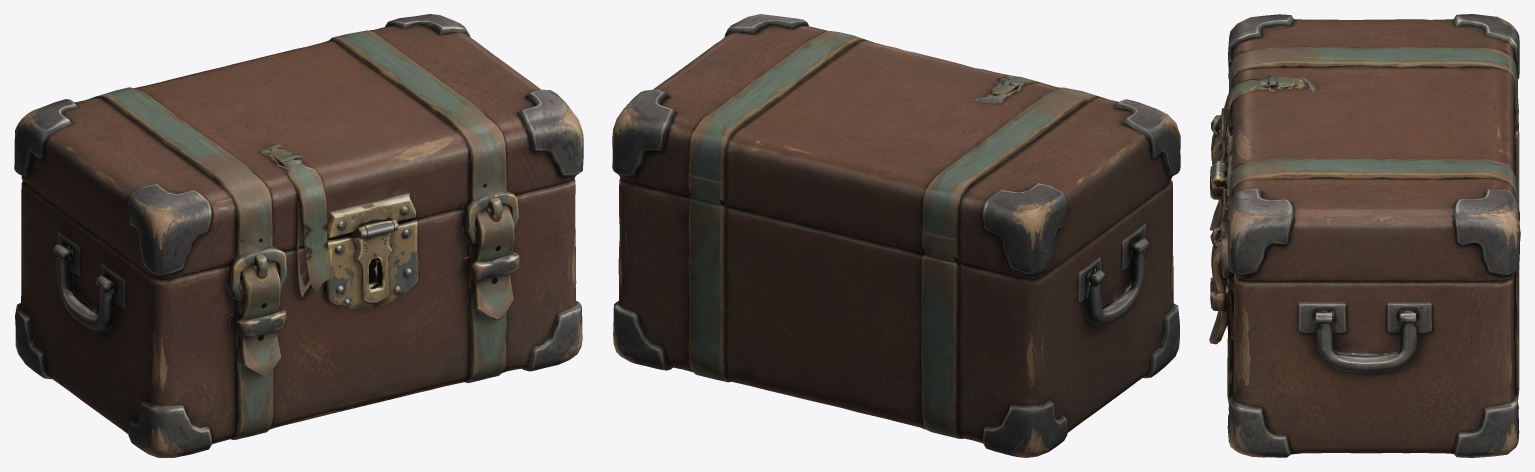
Rendered from Furn_Trunk.fbx.
The picture shows the model from 3 angles, left to right: view 1: azimuth 30°, elevation 25°; view 2: azimuth 150°, elevation 25°; view 3: azimuth 270°, elevation 25°; orthographic projection. The views are drawn at different scales.
Visible parts, largest first — view 1: texture_mapping; view 2: texture_mapping; view 3: texture_mapping.
Part boxes in pixels (x1,y1,x2,y2): texture_mapping: (14, 14, 583, 457); texture_mapping: (612, 14, 1180, 457); texture_mapping: (1209, 14, 1520, 457).
Bounding box in the file's own units: 0.9997 × 0.6125 × 0.5527.
Materials: 1 (1 with a texture image).
